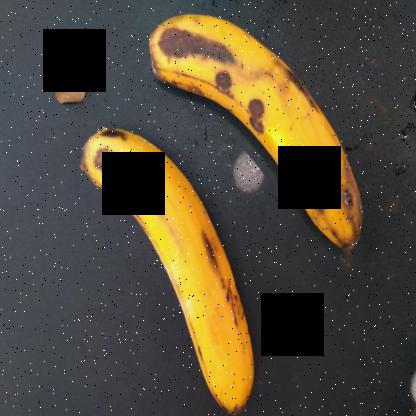overripe: (145, 12, 394, 268), (68, 112, 264, 415)
